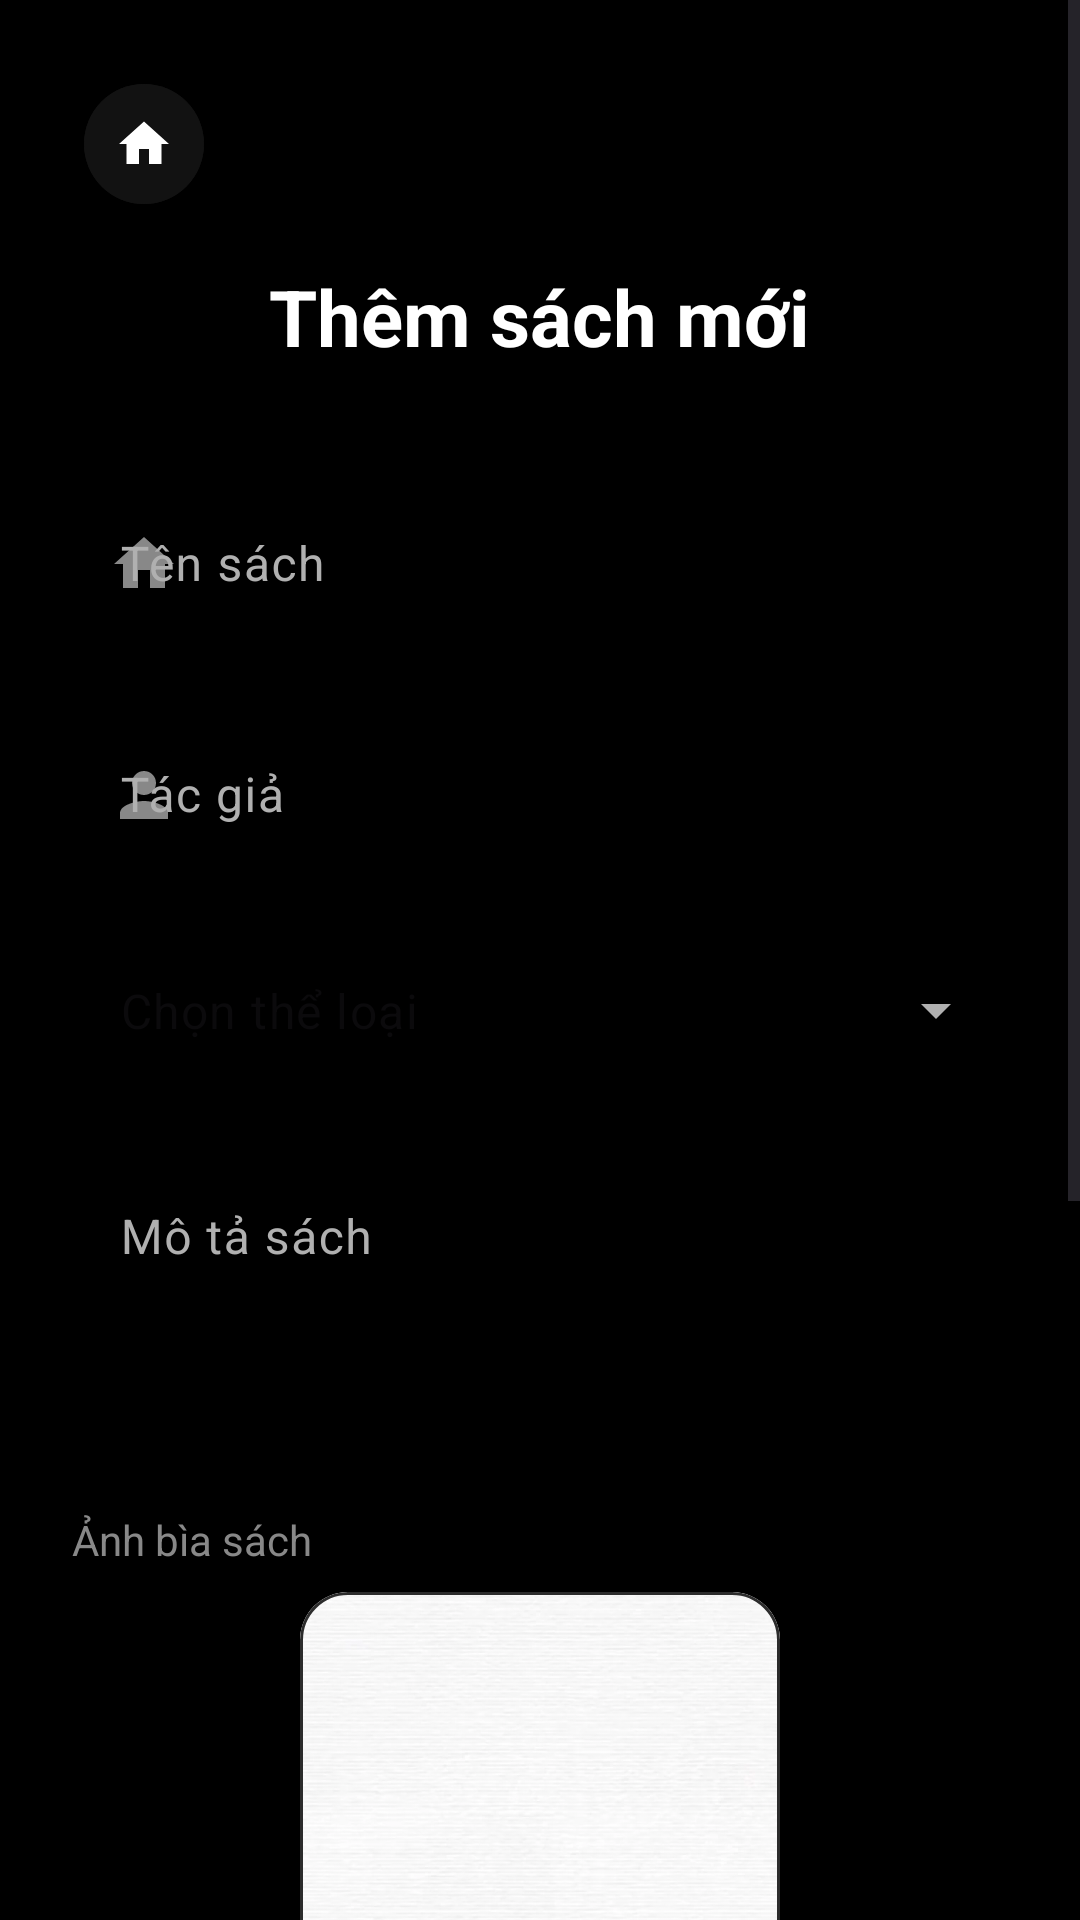

Screen size 1080px x 1920px. Icon name, then its center in pixels as point (x, y):
home: point (144, 142)
